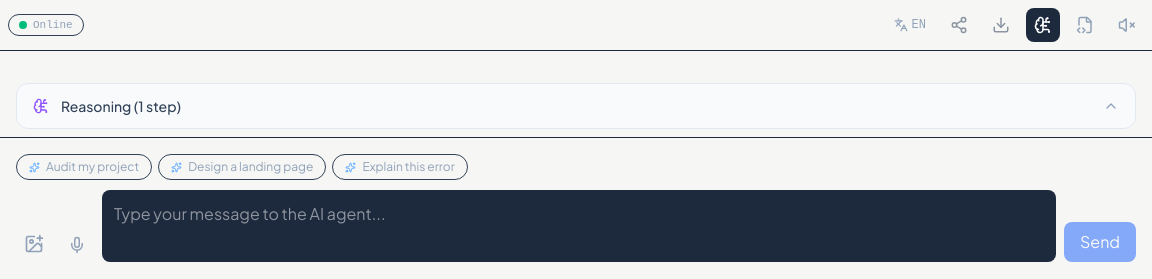
Test: ChatInterface Tier-S wiring contract (M10) › mounts and unmounts the S2 ThinkingPanel via toolbar toggle
This screenshot has width=1152, height=279.
Check: the text "Reasoning (1 step)" is shown, box [61,97,181,115]
Click the button titled "Toggle reasoning panel" at [1043, 25], box [1026,8,1060,42]
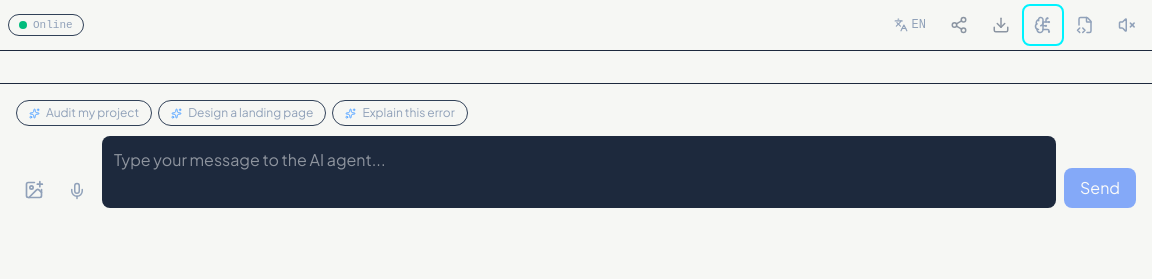
Check: the button "Reasoning (1 step)" is gone
